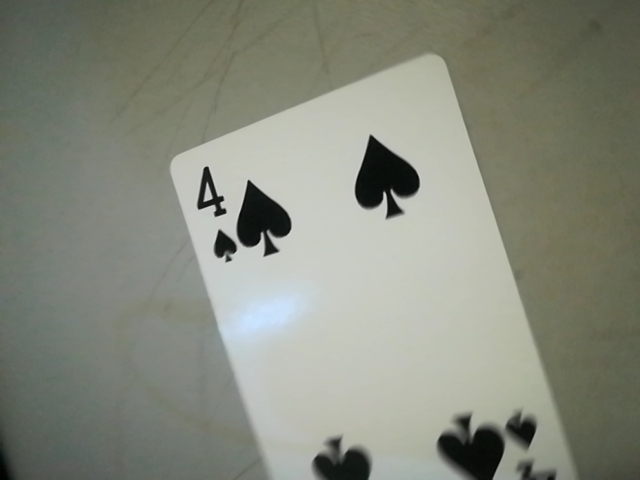ht 4: (181, 157, 235, 267)
